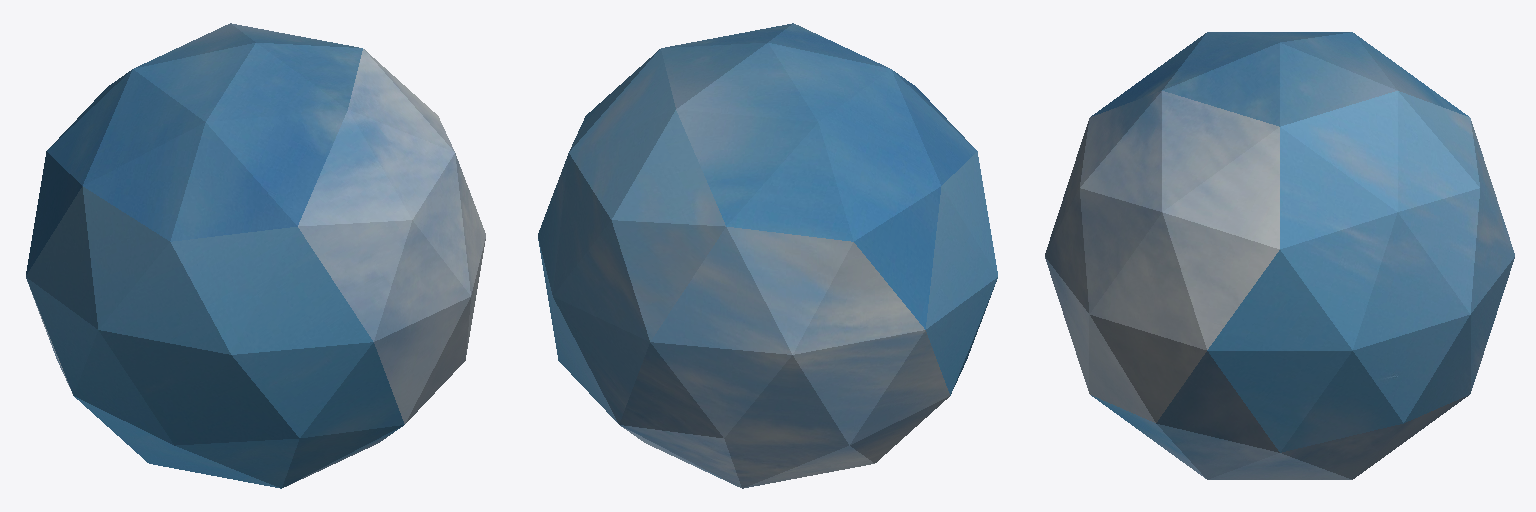
3 views of the same model, side by side, from view 1: azimuth 30°, elevation 25°; view 2: azimuth 150°, elevation 25°; view 3: azimuth 270°, elevation 25° (orthographic).
Visible parts, largest first — view 1: Icosphere.001_Icosphere.002; view 2: Icosphere.001_Icosphere.002; view 3: Icosphere.001_Icosphere.002.
Part boxes in pixels (x1,y1,x2,y2): Icosphere.001_Icosphere.002: (26, 23, 485, 488); Icosphere.001_Icosphere.002: (538, 23, 997, 488); Icosphere.001_Icosphere.002: (1045, 32, 1514, 479).
Bounding box in the file's own units: 33.48 × 35.2 × 35.2.
Materials: 1 (1 with a texture image).